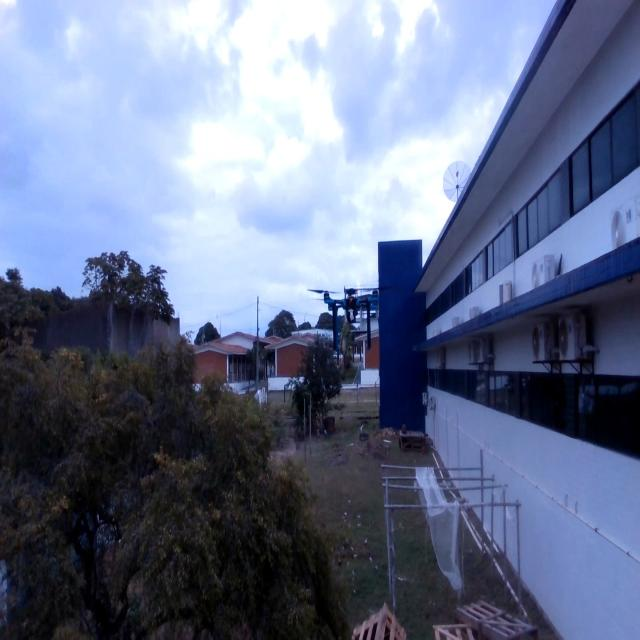-uav-: (304, 276, 394, 357)
